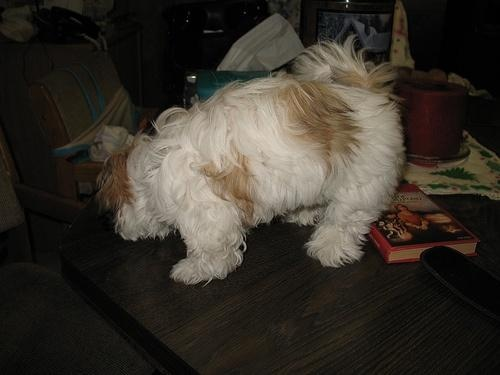dog: (97, 39, 404, 284)
